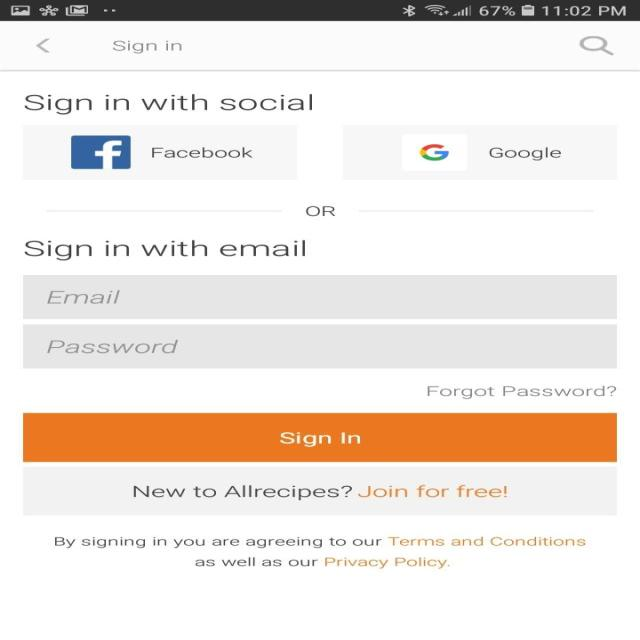EditText: (22, 274, 616, 319), (22, 324, 616, 368)
Icon: (578, 36, 614, 56), (36, 38, 50, 53)
Text: (54, 536, 586, 569), (24, 93, 312, 115), (24, 240, 305, 260), (426, 385, 616, 399), (47, 339, 178, 353), (47, 290, 120, 304), (112, 40, 182, 54), (305, 206, 335, 216)
TextButton: (23, 466, 617, 515), (23, 413, 617, 462), (22, 124, 297, 180), (342, 124, 616, 180)
